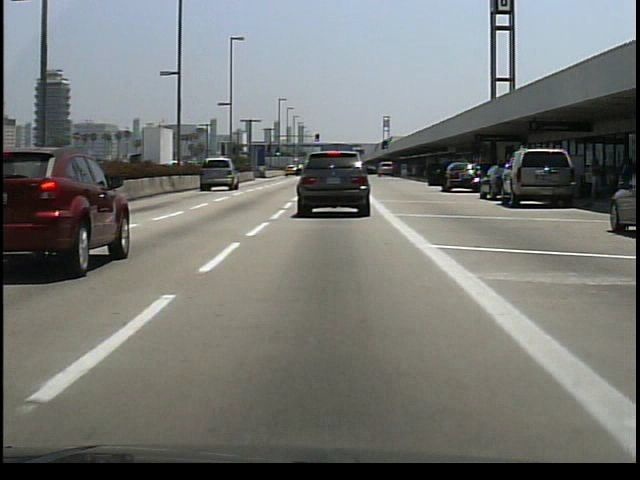person: (586, 154, 603, 202)
